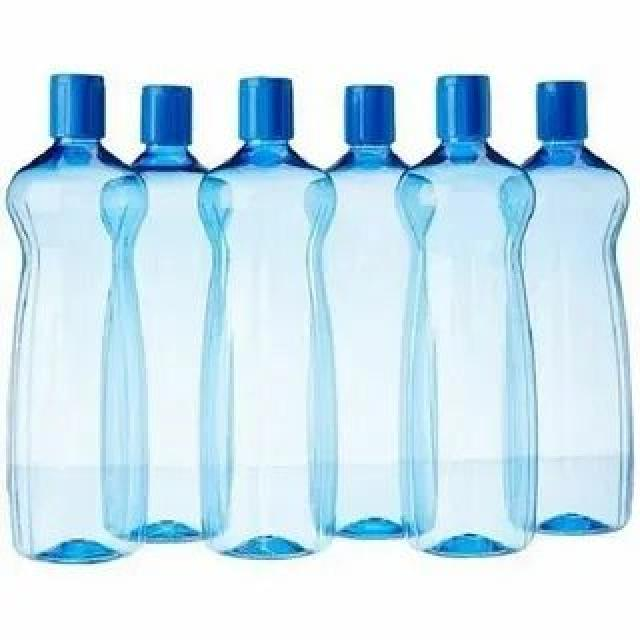blue: (5, 138, 150, 567)
